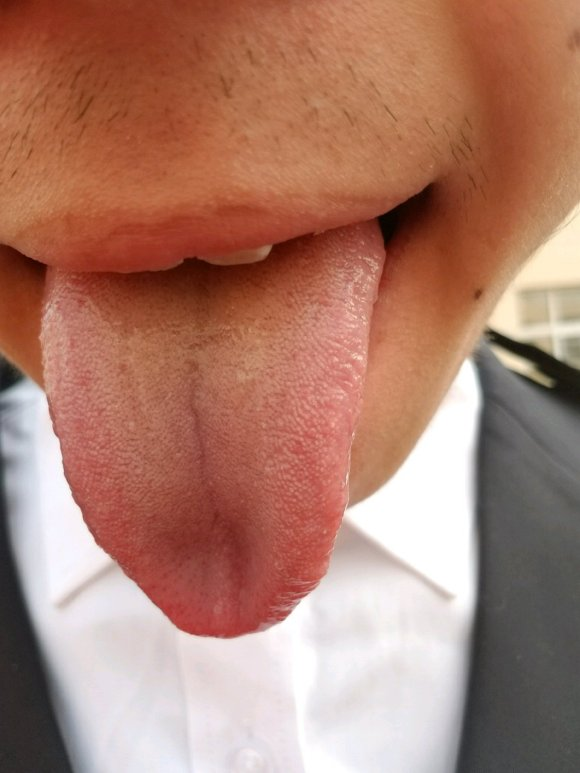hongshe: (44, 219, 385, 637)
piweiao: (147, 492, 273, 604)
